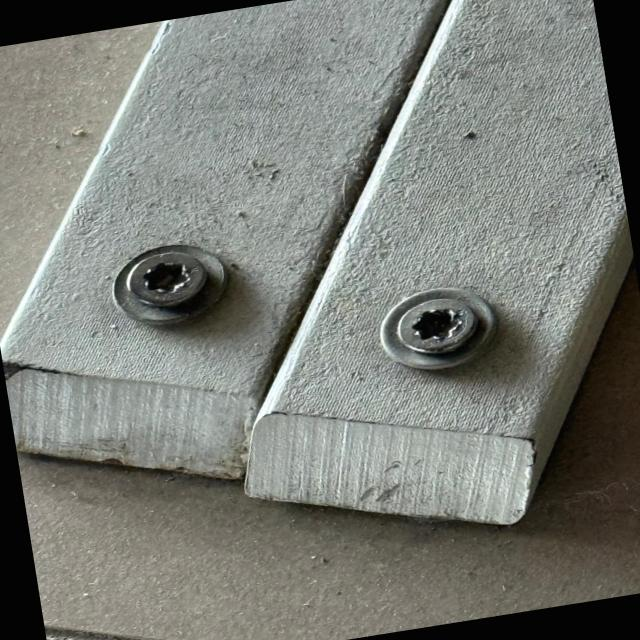Torx: (122, 238, 212, 315), (396, 296, 483, 360)
